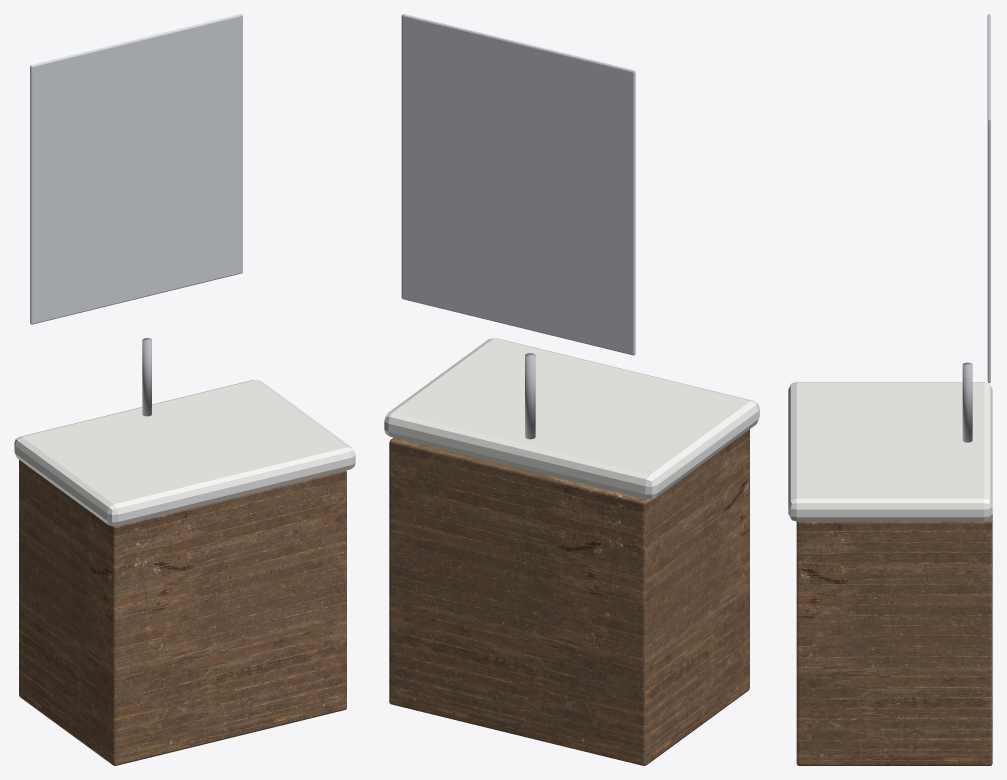
The model's file is sink.glb.
The picture shows the model from 3 angles, left to right: view 1: azimuth 30°, elevation 25°; view 2: azimuth 150°, elevation 25°; view 3: azimuth 270°, elevation 25°; orthographic projection. The views are drawn at different scales.
Parts seen in each view (by area): view 1: sink_vanity, sink_mirror, sink_basin, sink_tap; view 2: sink_vanity, sink_mirror, sink_basin, sink_tap; view 3: sink_vanity, sink_basin, sink_mirror, sink_tap.
Boxes of the visible parts, box(x1,y1,x2,y2) form: sink_vanity: box(19, 460, 346, 765); sink_mirror: box(30, 14, 242, 324); sink_basin: box(14, 380, 355, 526); sink_tap: box(142, 338, 151, 416); sink_vanity: box(389, 429, 749, 765); sink_mirror: box(401, 14, 635, 355); sink_basin: box(384, 338, 759, 499); sink_tap: box(525, 353, 535, 439); sink_vanity: box(796, 514, 992, 765); sink_basin: box(788, 382, 992, 521); sink_mirror: box(987, 14, 990, 382); sink_tap: box(962, 362, 972, 442).
Bounding box in the file's own units: 0.7 × 1.7 × 0.49.
Materials: 4 (1 with a texture image).
